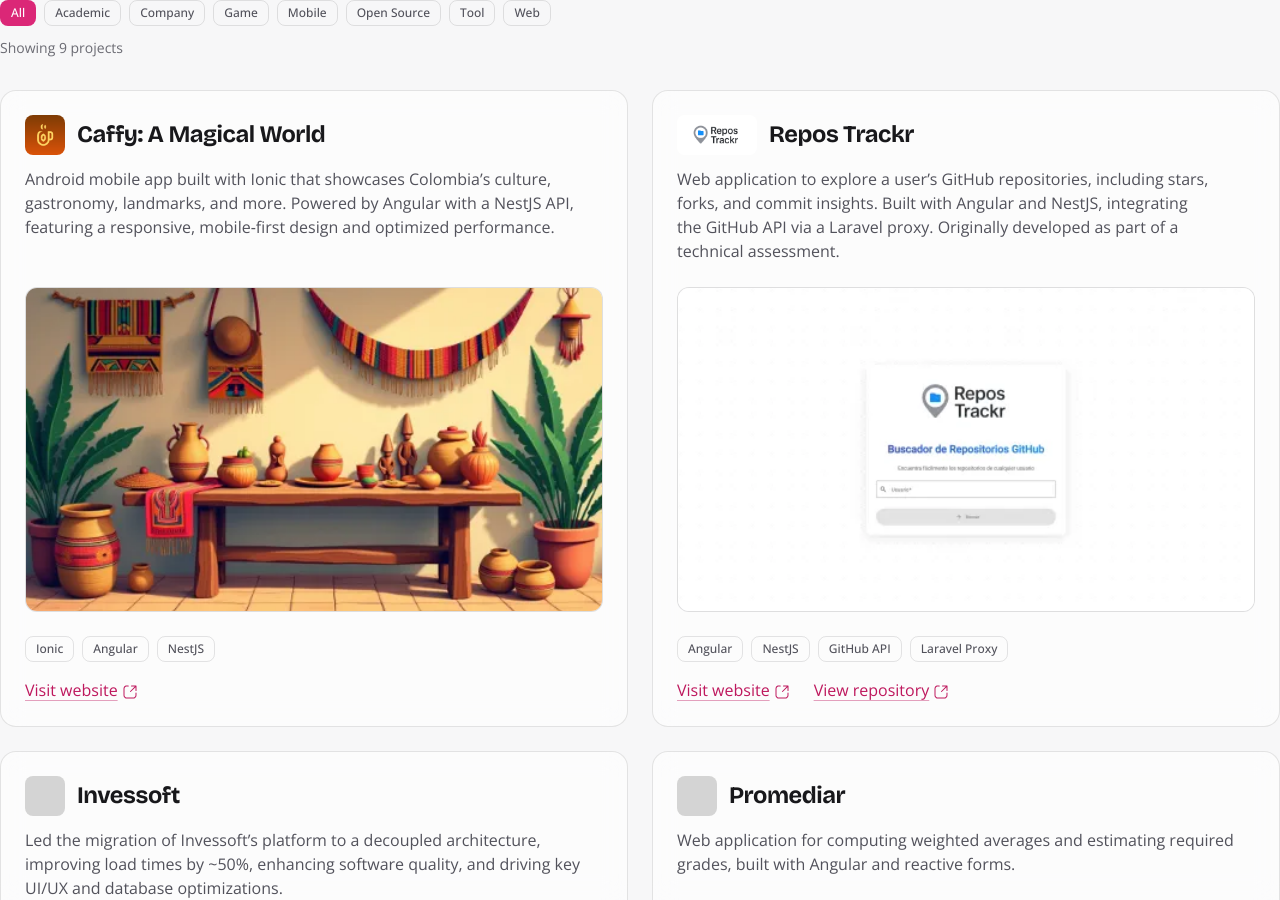
ProjectShowcaseComponent › category filter › uses the singular for a single result
Click the button "Game": (241, 13) x1=213 y1=0 x2=269 y2=26
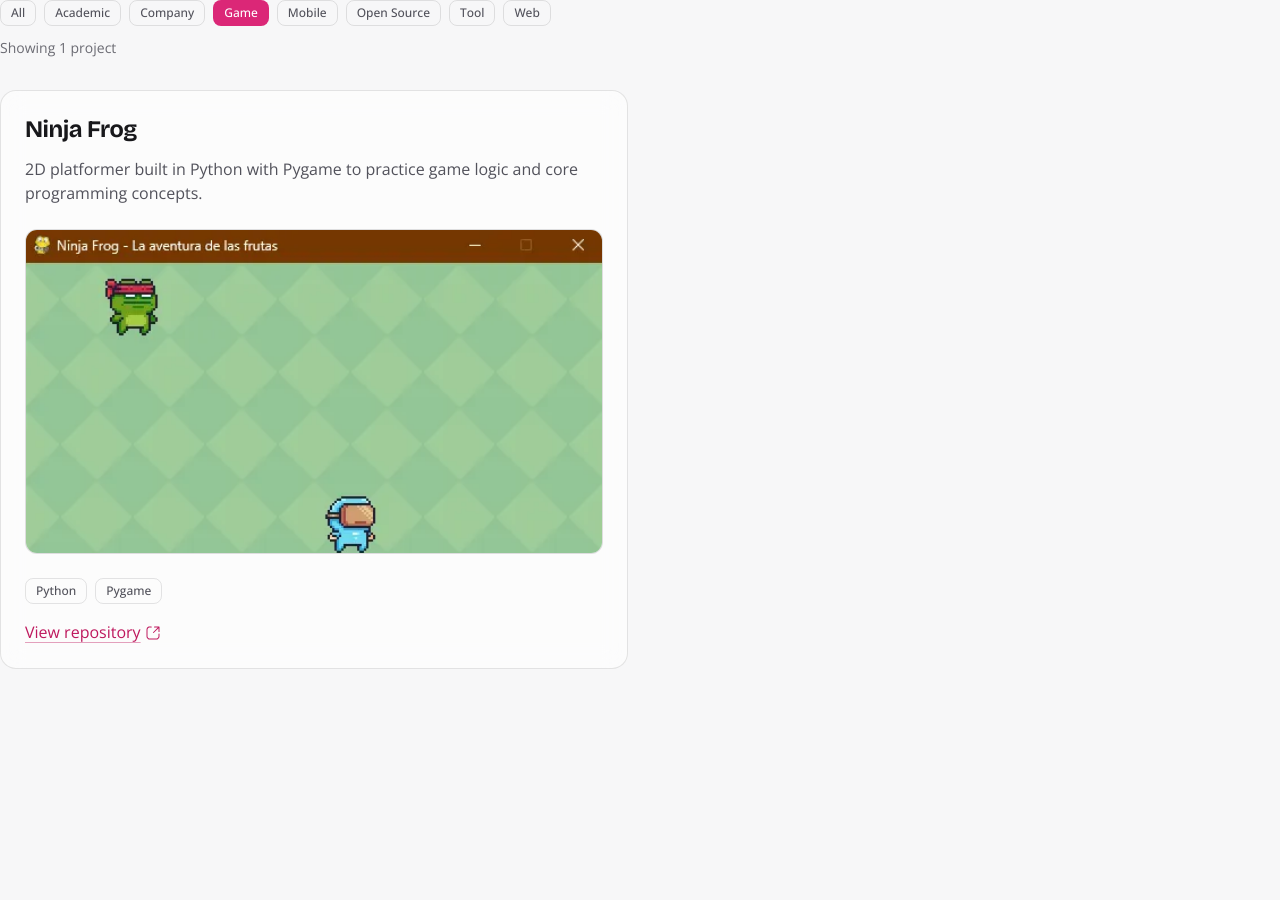
Result: the message "Showing 1 project" is shown at x1=0 y1=38 x2=116 y2=57
